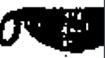Basket: (0, 4, 105, 55)
